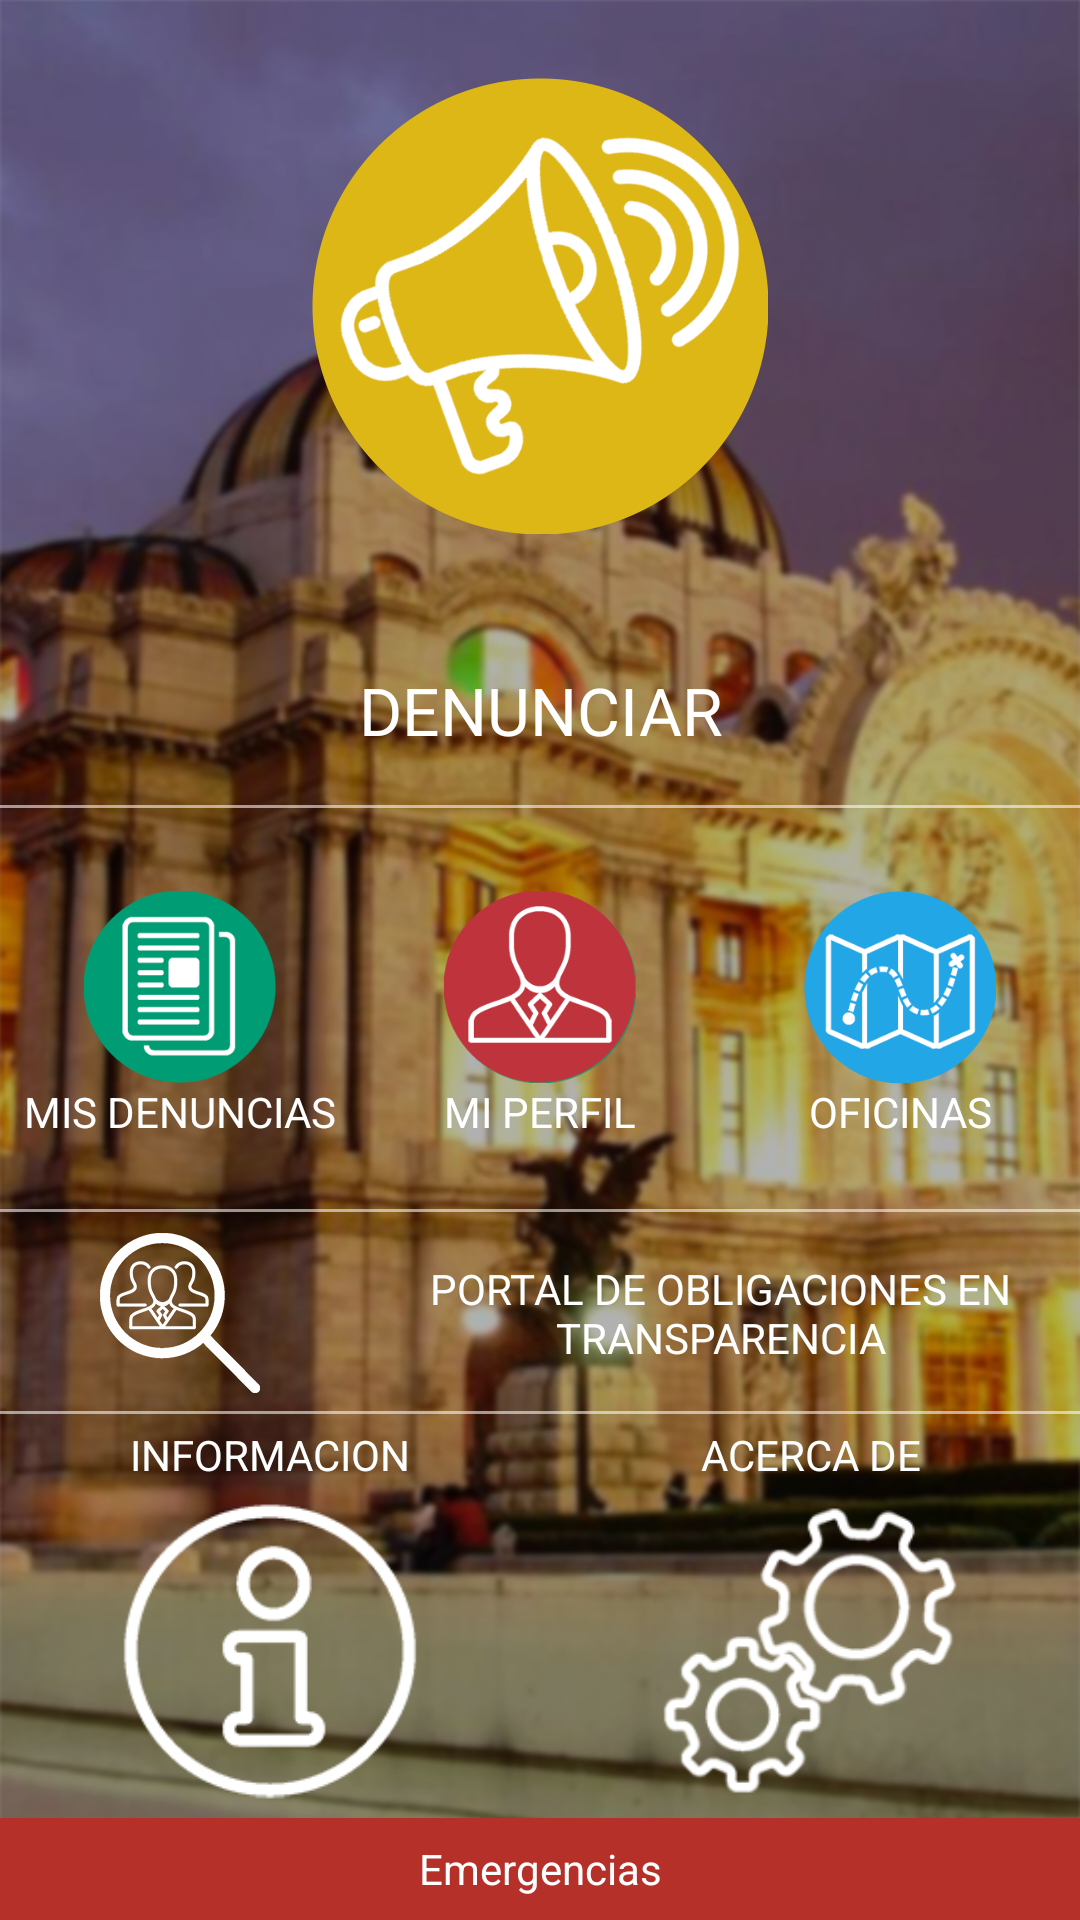

Icons on this 1080px x 1920px Android screen, each with the point to tap as [x,y]:
ubicanos: [900,987]
